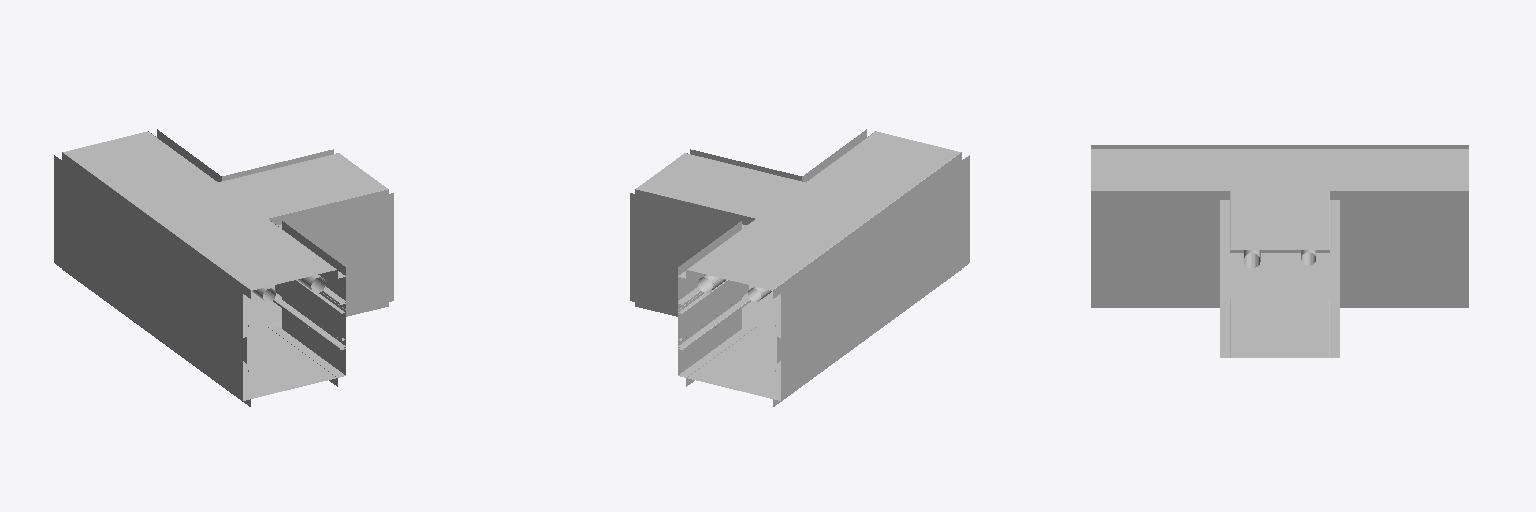
File: Tcorner.obj
3 views of the same model, side by side, from view 1: azimuth 30°, elevation 25°; view 2: azimuth 150°, elevation 25°; view 3: azimuth 270°, elevation 25° (orthographic).
Parts seen in each view (by area): view 1: Cube.096_Cube.020, Cube.205_Cube.116, Cube.099_Cube.047, Cube.083_Cube.007, Cube.212_Cube.127, Cube.106_Cube.060, Cube.080_Cube.004; view 2: Cube.096_Cube.020, Cube.205_Cube.116, Cube.099_Cube.047, Cube.083_Cube.007, Cube.212_Cube.127, Cube.106_Cube.060, Cube.080_Cube.004; view 3: Cube.096_Cube.020, Cube.205_Cube.116, Cube.099_Cube.047, Cube.083_Cube.007, Cube.106_Cube.060, Cube.080_Cube.004.
Part boxes in pixels (left/top/right/bottom): Cube.096_Cube.020: left=54, top=129, right=393, bottom=400; Cube.205_Cube.116: left=63, top=131, right=387, bottom=290; Cube.099_Cube.047: left=243, top=285, right=336, bottom=398; Cube.083_Cube.007: left=62, top=131, right=388, bottom=301; Cube.212_Cube.127: left=243, top=280, right=345, bottom=364; Cube.106_Cube.060: left=62, top=269, right=388, bottom=406; Cube.080_Cube.004: left=243, top=286, right=345, bottom=373; Cube.096_Cube.020: left=630, top=129, right=969, bottom=400; Cube.205_Cube.116: left=636, top=131, right=960, bottom=290; Cube.099_Cube.047: left=687, top=285, right=780, bottom=398; Cube.083_Cube.007: left=635, top=131, right=961, bottom=301; Cube.212_Cube.127: left=678, top=280, right=780, bottom=364; Cube.106_Cube.060: left=635, top=269, right=961, bottom=406; Cube.080_Cube.004: left=678, top=286, right=780, bottom=373; Cube.096_Cube.020: left=1091, top=145, right=1468, bottom=303; Cube.205_Cube.116: left=1091, top=149, right=1468, bottom=249; Cube.099_Cube.047: left=1228, top=257, right=1331, bottom=357; Cube.083_Cube.007: left=1091, top=191, right=1468, bottom=258; Cube.106_Cube.060: left=1091, top=253, right=1468, bottom=357; Cube.080_Cube.004: left=1220, top=259, right=1339, bottom=330.
Size of the model in its own units: 25 by 13 by 38.